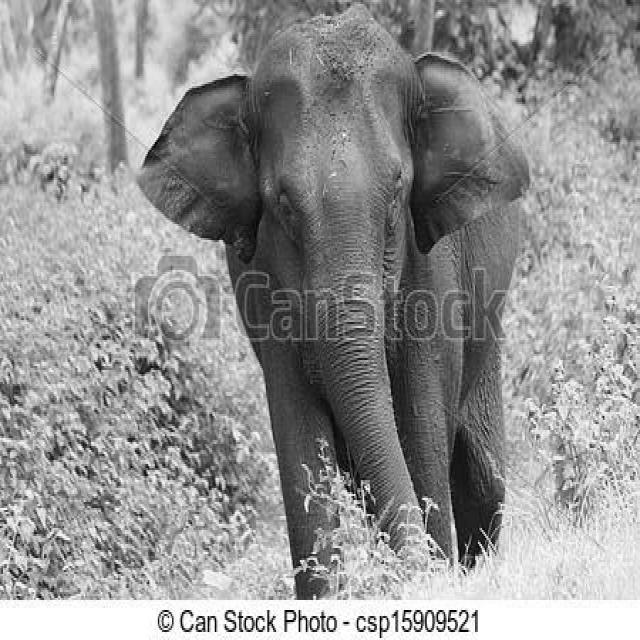Elephant: (135, 0, 531, 598)
